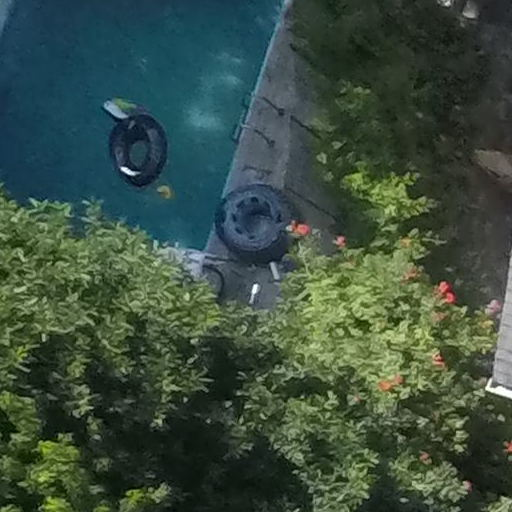pool: (1, 1, 291, 271)
toy: (90, 92, 184, 204), (201, 178, 301, 268)
